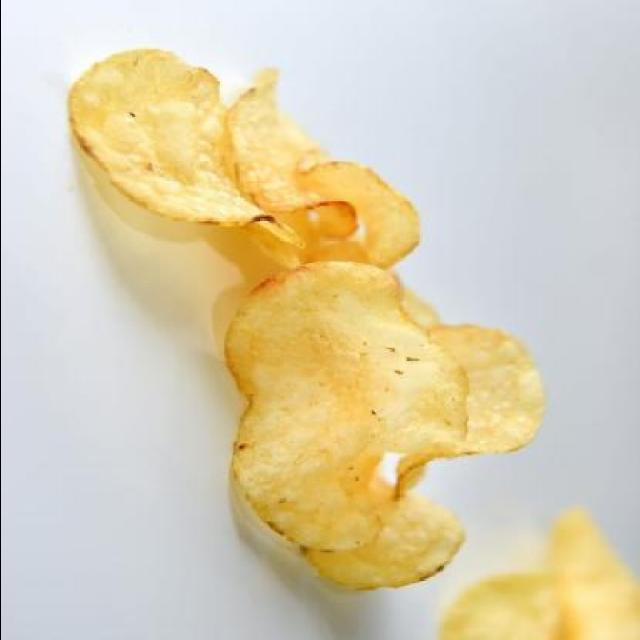Chips packaged: (207, 260, 463, 562), (61, 42, 308, 254)
